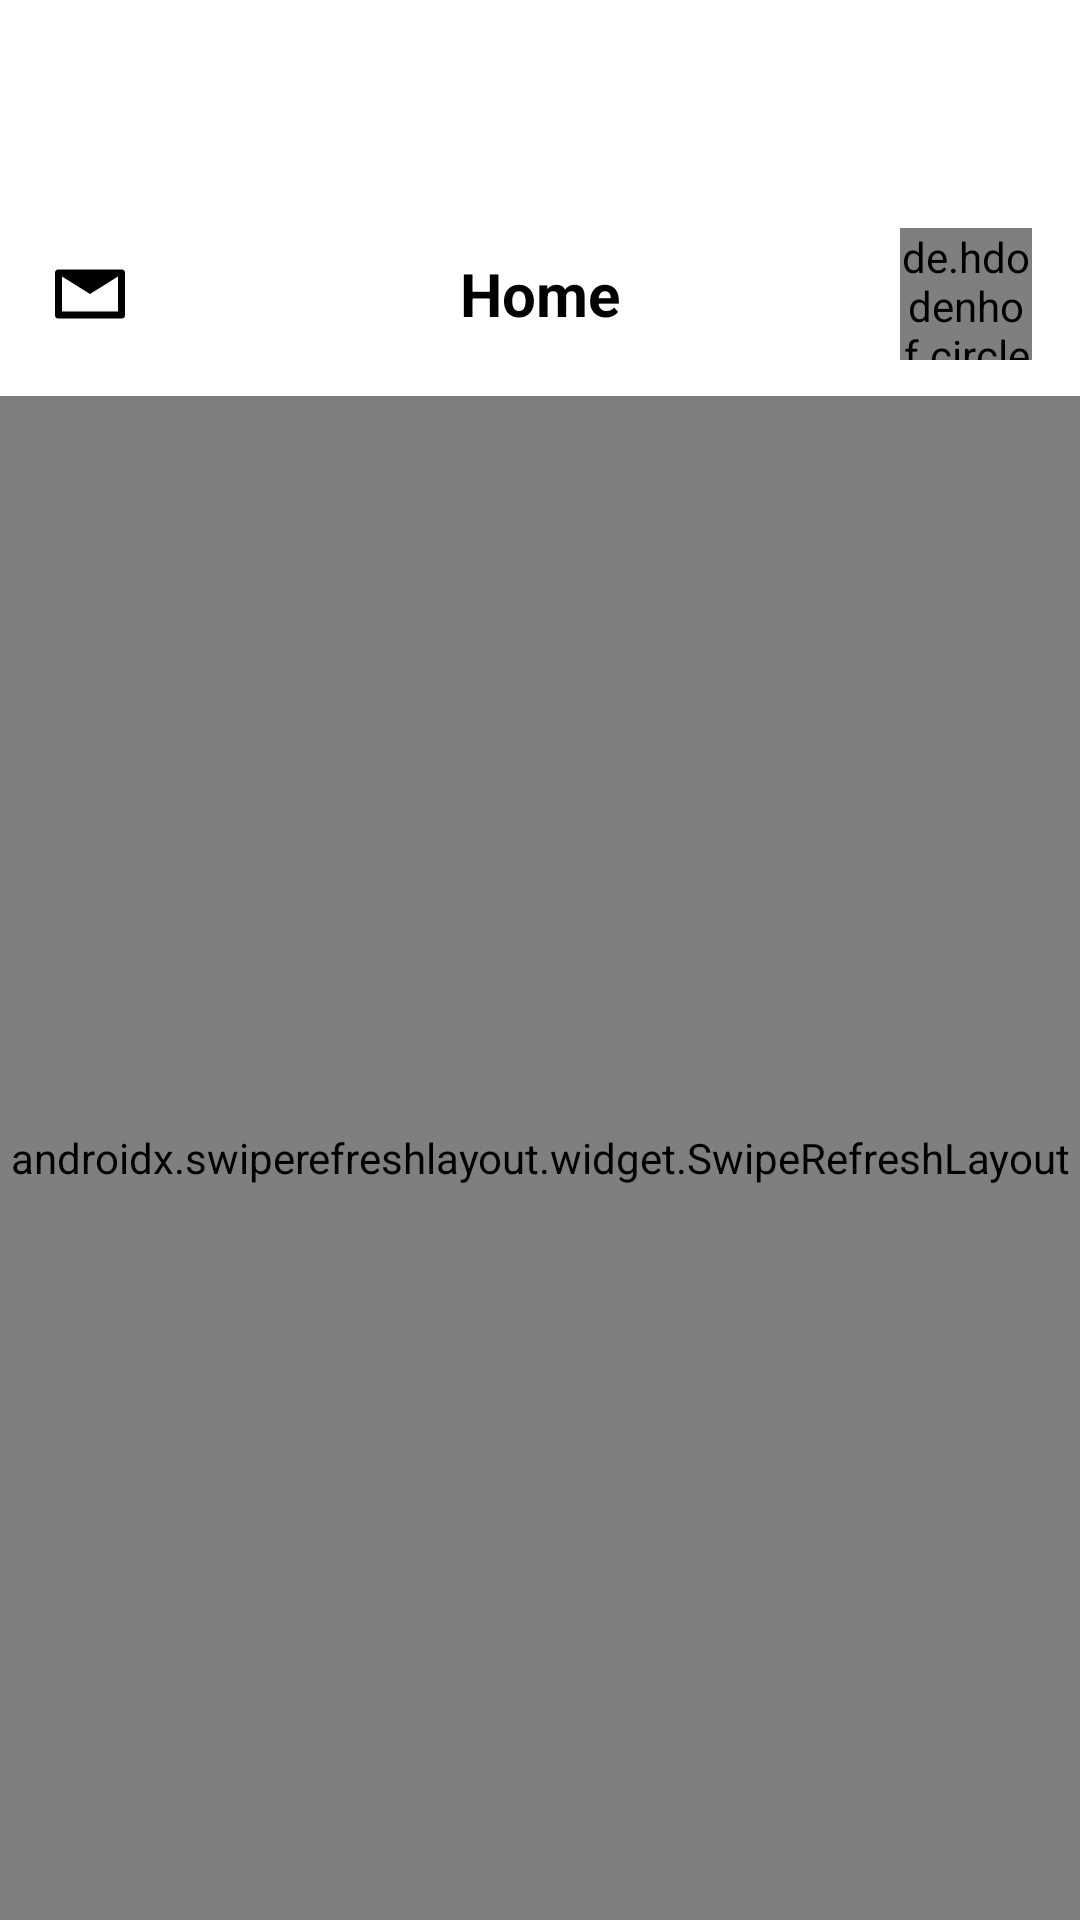

Icon bounding boxes for this 1080×1920 phone screenshot, format region(x1, y1, x2, y2):
수신함: region(55, 269, 125, 319)
